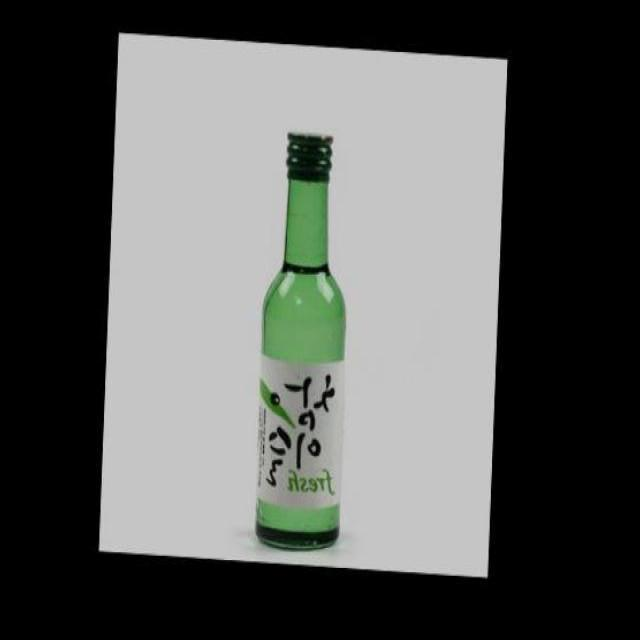Glass: (250, 124, 356, 559)
